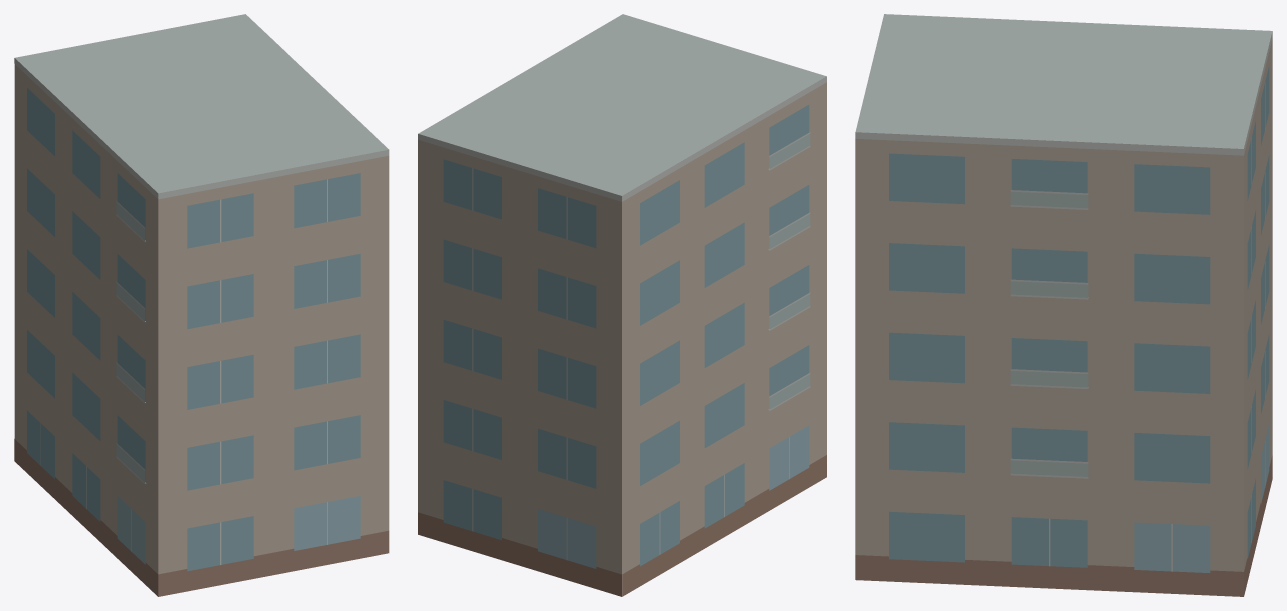
File: survey-upis-32879854.glb
The picture shows the model from 3 angles, left to right: view 1: azimuth 30°, elevation 25°; view 2: azimuth 150°, elevation 25°; view 3: azimuth 270°, elevation 25°; orthographic projection. The views are drawn at different scales.
Parts seen in each view (by area): view 1: survey-upis-32879854.tmp; view 2: survey-upis-32879854.tmp; view 3: survey-upis-32879854.tmp.
Part boxes in pixels (x1,y1,x2,y2): survey-upis-32879854.tmp: (14, 14, 389, 596); survey-upis-32879854.tmp: (418, 14, 826, 596); survey-upis-32879854.tmp: (855, 14, 1272, 596).
Size of the model in its own units: 10.71 by 16.55 by 13.98.
